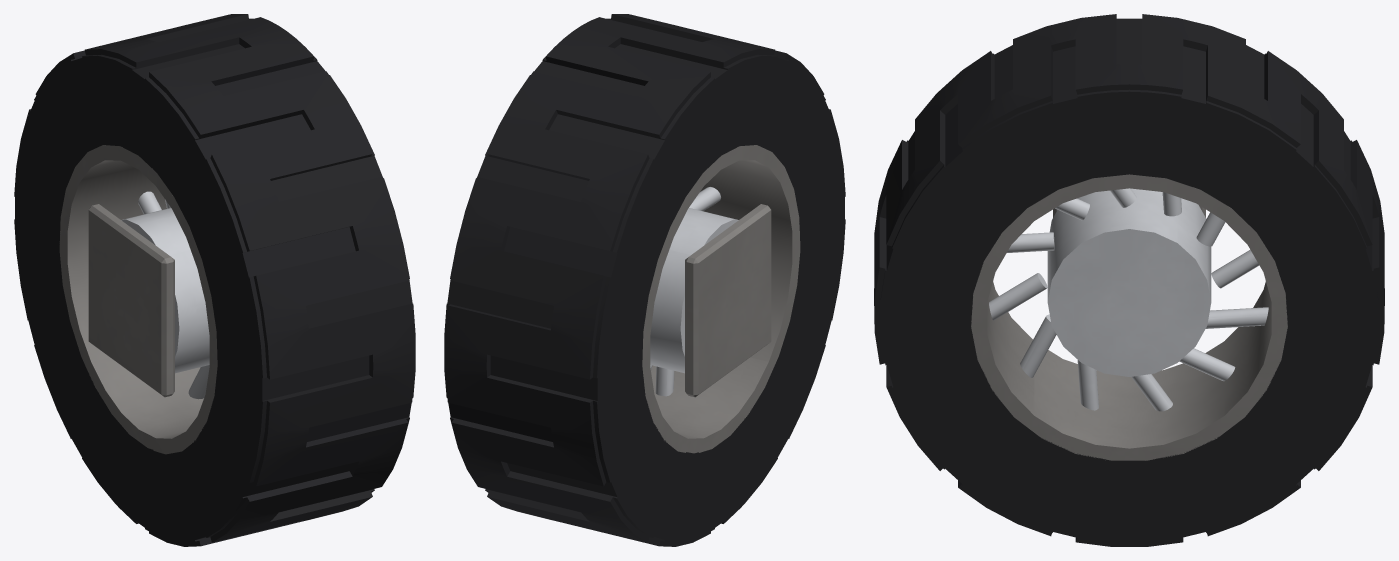
Rendered from ax_rover_17_airless_wheel_l.glb.
3 renders of one model, left to right at view 1: azimuth 30°, elevation 25°; view 2: azimuth 150°, elevation 25°; view 3: azimuth 270°, elevation 25°, orthographic.
Parts seen in each view (by area): view 1: wheel_tread, wheel_rim, mount_plate, hub, wheel_flex_spokes; view 2: wheel_tread, wheel_rim, mount_plate, hub, wheel_flex_spokes; view 3: wheel_tread, wheel_rim, hub, wheel_flex_spokes.
Part boxes in pixels (x1,y1,x2,y2): wheel_tread: [14, 14, 415, 546]; wheel_rim: [59, 145, 217, 454]; mount_plate: [88, 204, 174, 397]; hub: [121, 208, 209, 373]; wheel_flex_spokes: [138, 191, 209, 399]; wheel_tread: [444, 14, 845, 546]; wheel_rim: [642, 145, 800, 453]; mount_plate: [685, 204, 771, 397]; hub: [650, 208, 738, 373]; wheel_flex_spokes: [650, 187, 720, 396]; wheel_tread: [874, 14, 1384, 546]; wheel_rim: [971, 174, 1287, 460]; hub: [1047, 188, 1211, 376]; wheel_flex_spokes: [989, 188, 1268, 411].
Size of the model in its own units: 0.49 by 1.3 by 1.3.
Materials: 3 (2 with a texture image).
